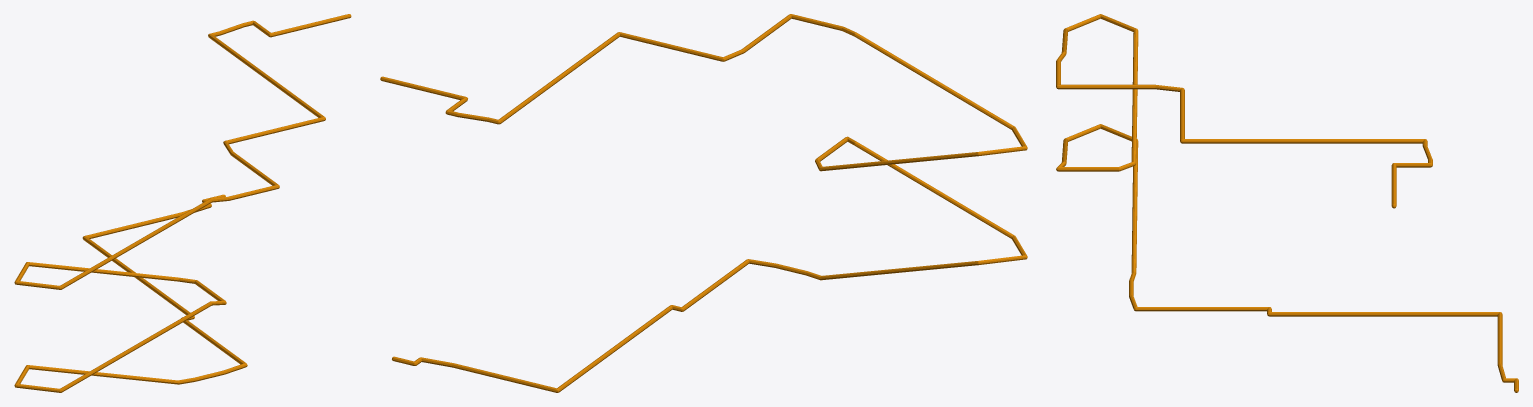
The picture shows the model from 3 angles, left to right: view 1: azimuth 30°, elevation 25°; view 2: azimuth 150°, elevation 25°; view 3: azimuth 270°, elevation 25°; orthographic projection. The views are drawn at different scales.
Size of the model in its own units: 2408 by 1020 by 1907.
